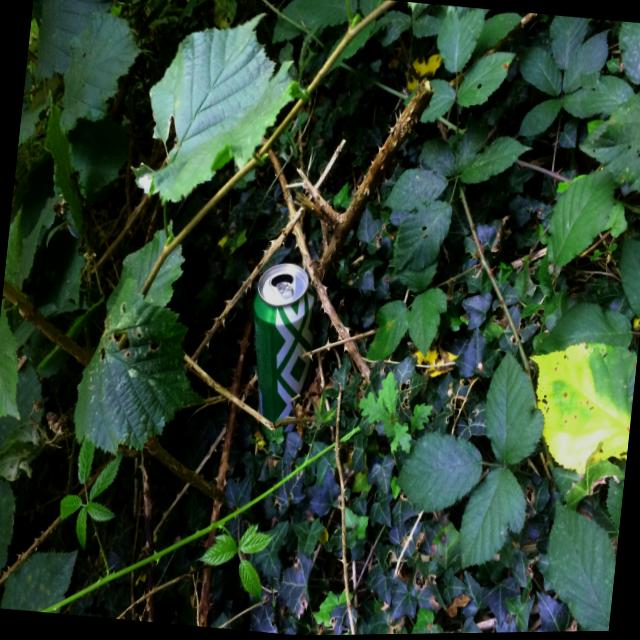Can-Metal: (232, 252, 334, 455)
